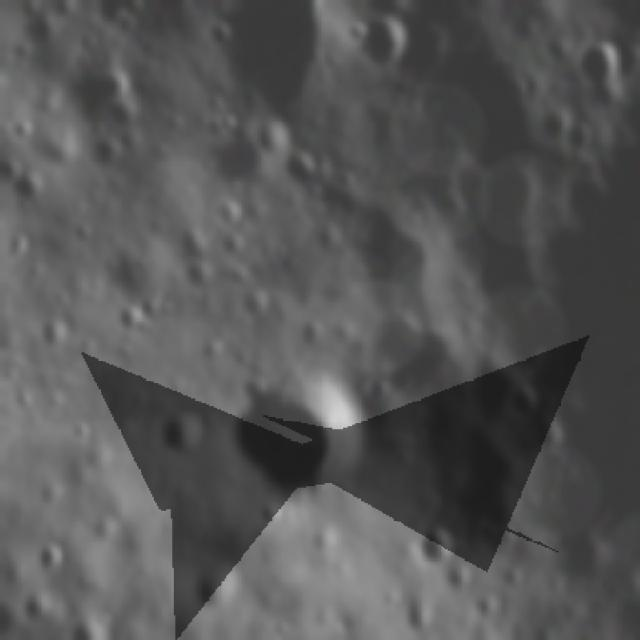crater: (232, 372, 370, 501), (213, 6, 356, 122), (359, 213, 456, 316), (363, 316, 472, 404), (352, 10, 418, 76), (565, 38, 623, 99), (154, 400, 208, 462), (188, 559, 249, 613), (414, 518, 468, 570), (278, 150, 328, 199), (504, 377, 544, 428), (109, 303, 156, 346), (5, 177, 46, 226), (26, 15, 68, 60), (88, 132, 129, 176), (92, 65, 134, 107), (181, 255, 219, 298), (205, 192, 249, 228), (561, 123, 602, 160), (35, 318, 76, 354), (26, 544, 62, 581), (220, 236, 251, 267)
